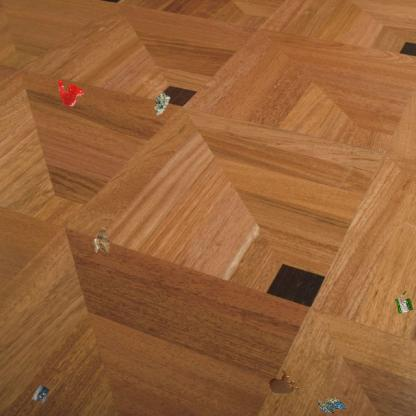dirty: (394, 289, 416, 316), (316, 396, 347, 415), (91, 226, 112, 254), (30, 383, 52, 405), (153, 91, 170, 118)
liquid: (57, 78, 85, 108), (268, 369, 300, 395)
